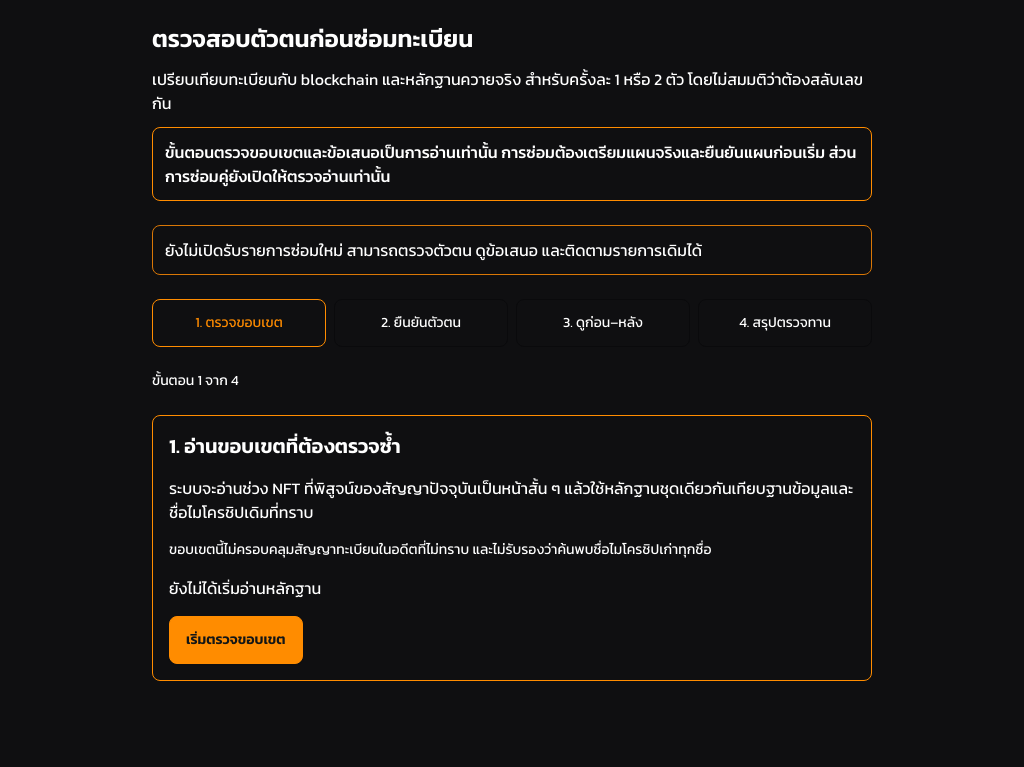
pause keeps completed page receipt and resumes same scan from the next page
Click the button "เริ่มตรวจขอบเขต".
click(236, 640)  # box [169,616,303,664]
(page scrolled)
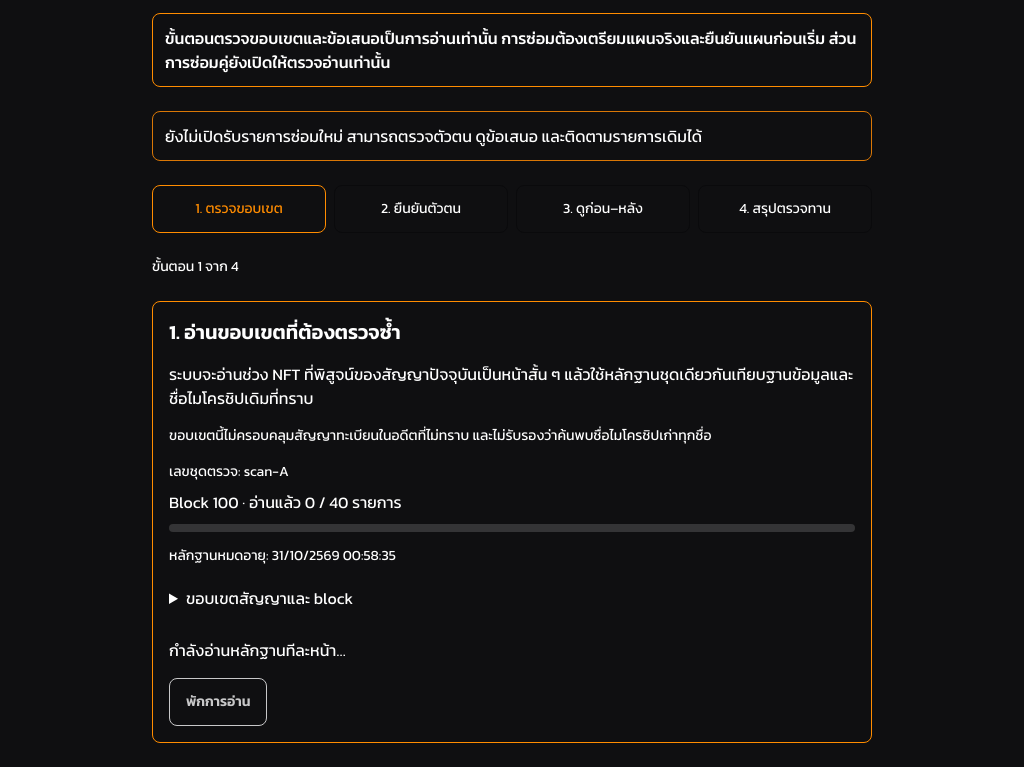
Click the button "พักการอ่าน".
click(218, 702)  # box [169,678,267,726]
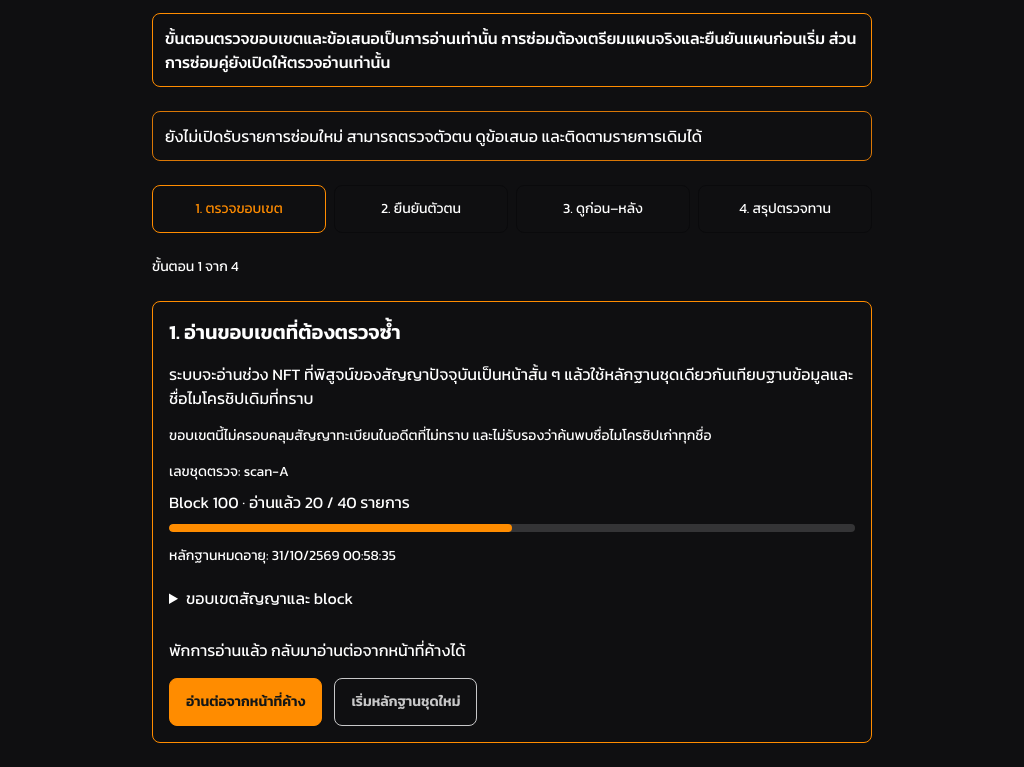
Expected: the text "พักการอ่านแล้ว กลับมาอ่านต่อจากหน้าที่ค้างได้" is shown, [169,638,466,662]
Click the button "อ่านต่อจากหน้าที่ค้าง".
click(246, 702)  # box [169,678,322,726]
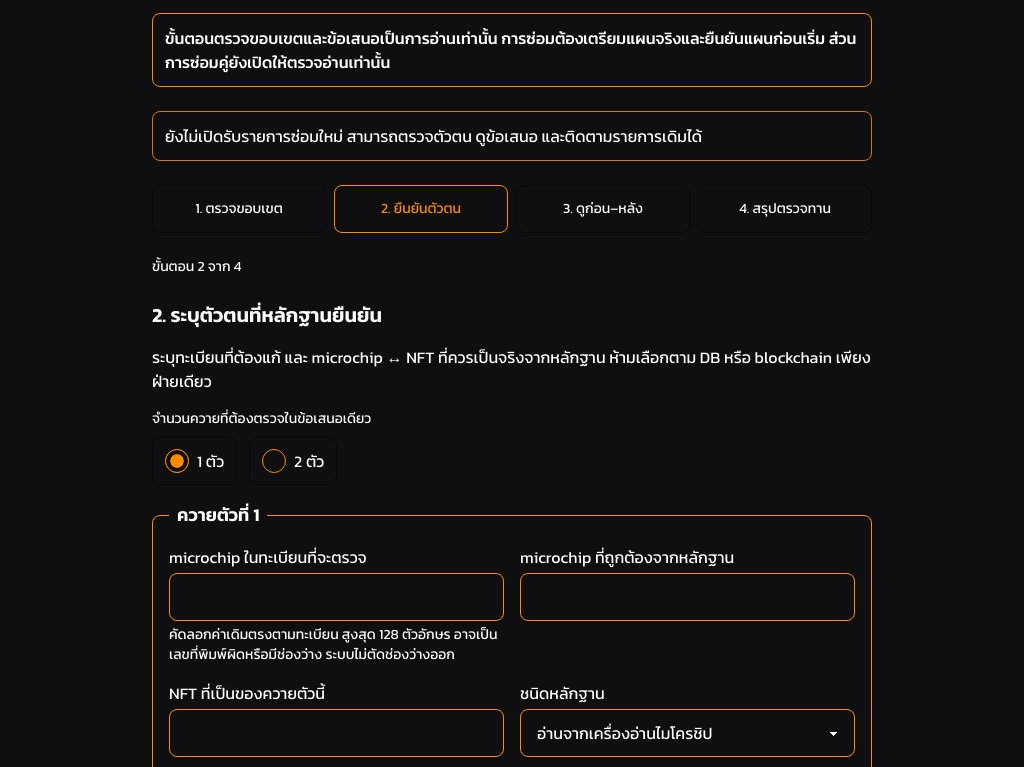
Expected: the heading "2. ระบุตัวตนที่หลักฐานยืนยัน" is shown, [152,300,382,330]
